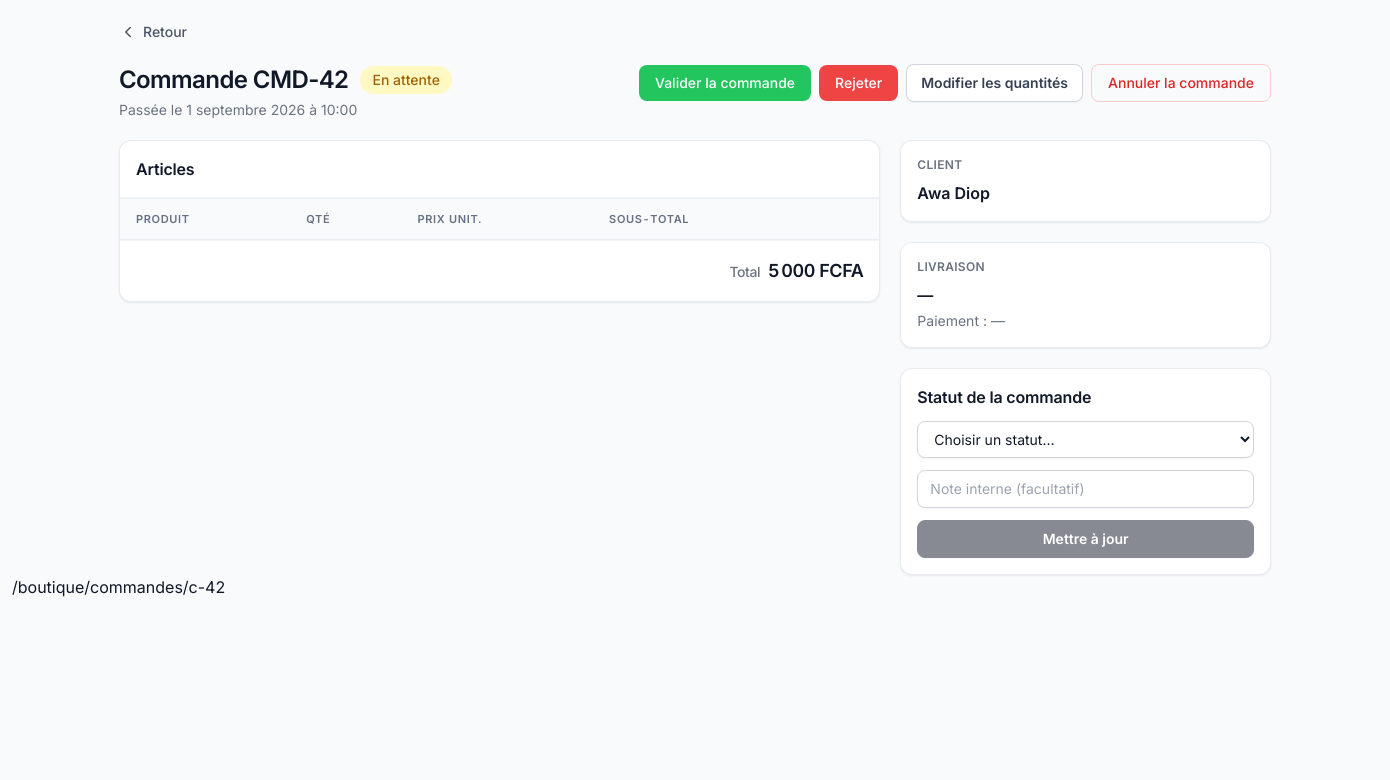
Test: Commandes : navigation Retour et contexte de liste › détail ouvert directement par URL → Retour mène à /boutique/commandes
Expected: the heading "Commande CMD-42" is shown, [119,64,348,96]
What coordinates should you click on to do the following:
click the button "Retour"
I would click on:
 (153, 32)
Its box is [113,12,193,52].
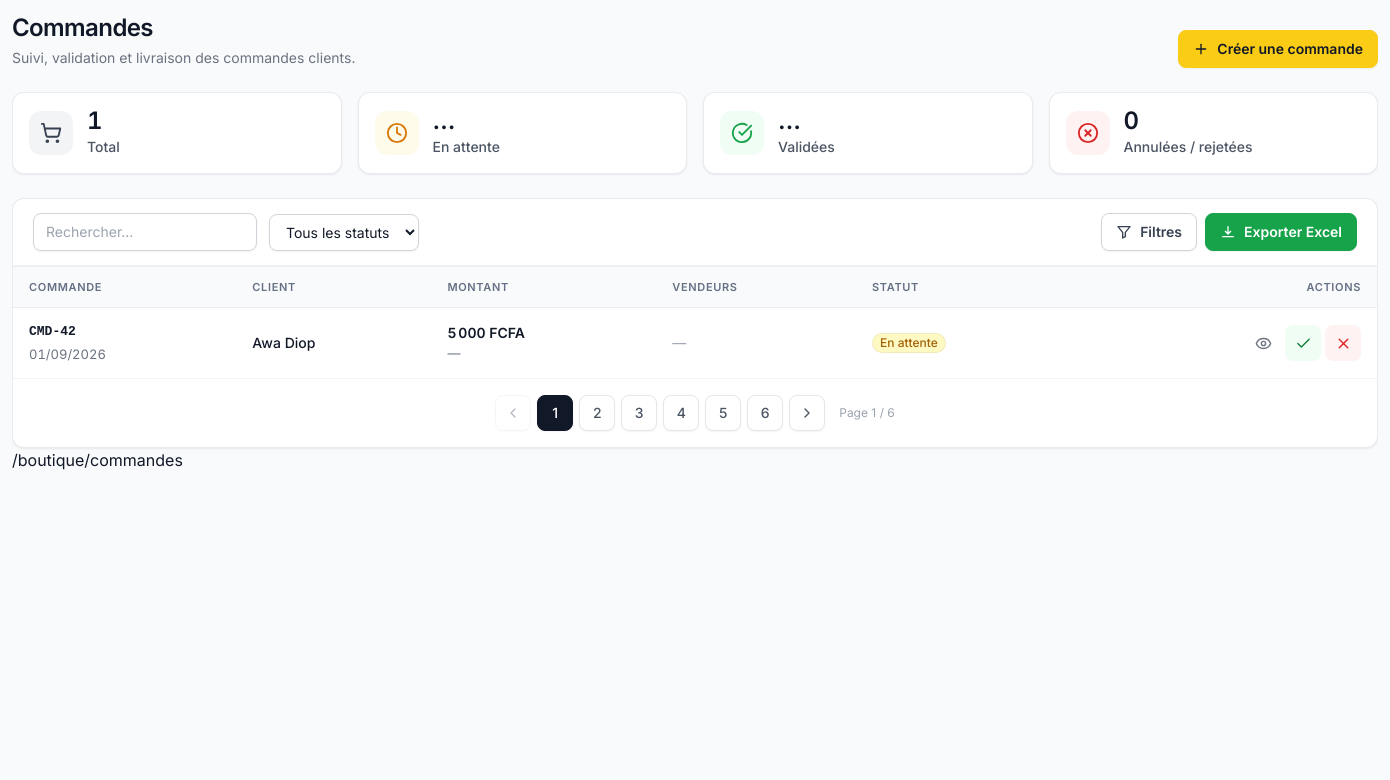
Result: the text with test id "adresse" reads "/boutique/commandes" at [12,450,183,470]
